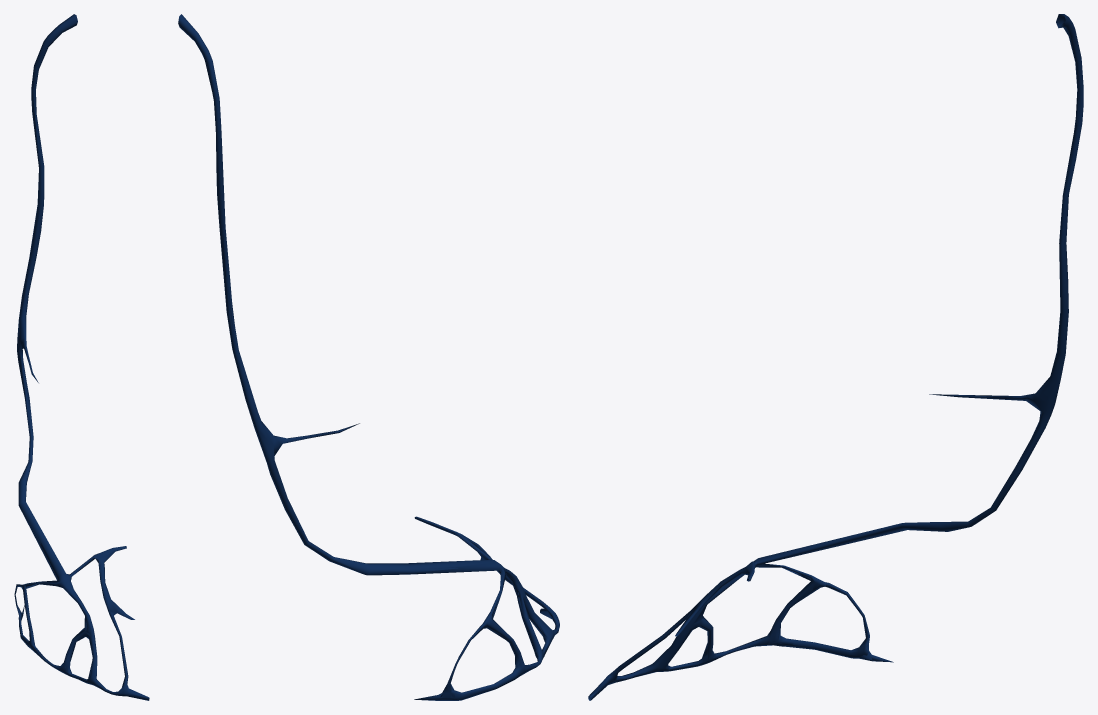
File: R vena digitales lateralis.fbx
The picture shows the model from 3 angles, left to right: view 1: azimuth 30°, elevation 25°; view 2: azimuth 150°, elevation 25°; view 3: azimuth 270°, elevation 25°; orthographic projection. The views are drawn at different scales.
Parts seen in each view (by area): view 1: R vena digitales lateralis, R vena digitales lateralis low; view 2: R vena digitales lateralis, R vena digitales lateralis low; view 3: R vena digitales lateralis, R vena digitales lateralis low.
Part boxes in pixels (x1,y1,x2,y2): R vena digitales lateralis: [14, 14, 149, 700]; R vena digitales lateralis low: [15, 16, 140, 694]; R vena digitales lateralis: [178, 14, 559, 700]; R vena digitales lateralis low: [181, 16, 559, 698]; R vena digitales lateralis: [588, 14, 1083, 700]; R vena digitales lateralis low: [589, 15, 1083, 700].
Size of the model in its own units: 3.5 by 12.1 by 7.23.
